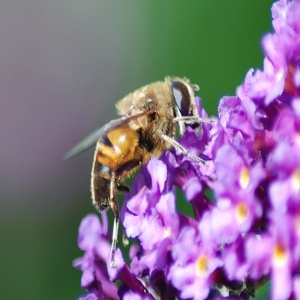bee: (80, 75, 202, 221)
